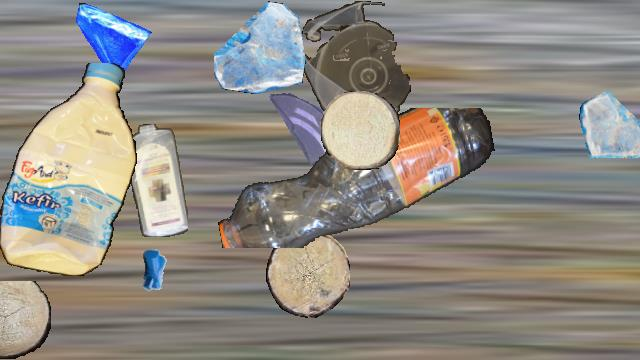glass: (214, 1, 306, 93), (265, 89, 349, 173), (70, 1, 152, 83), (579, 88, 640, 162)
metal: (124, 241, 186, 303)
plastic: (213, 108, 497, 248), (0, 63, 137, 275), (300, 1, 412, 133), (127, 124, 187, 236)
wood: (266, 232, 350, 318), (321, 91, 399, 169), (0, 281, 51, 359)
